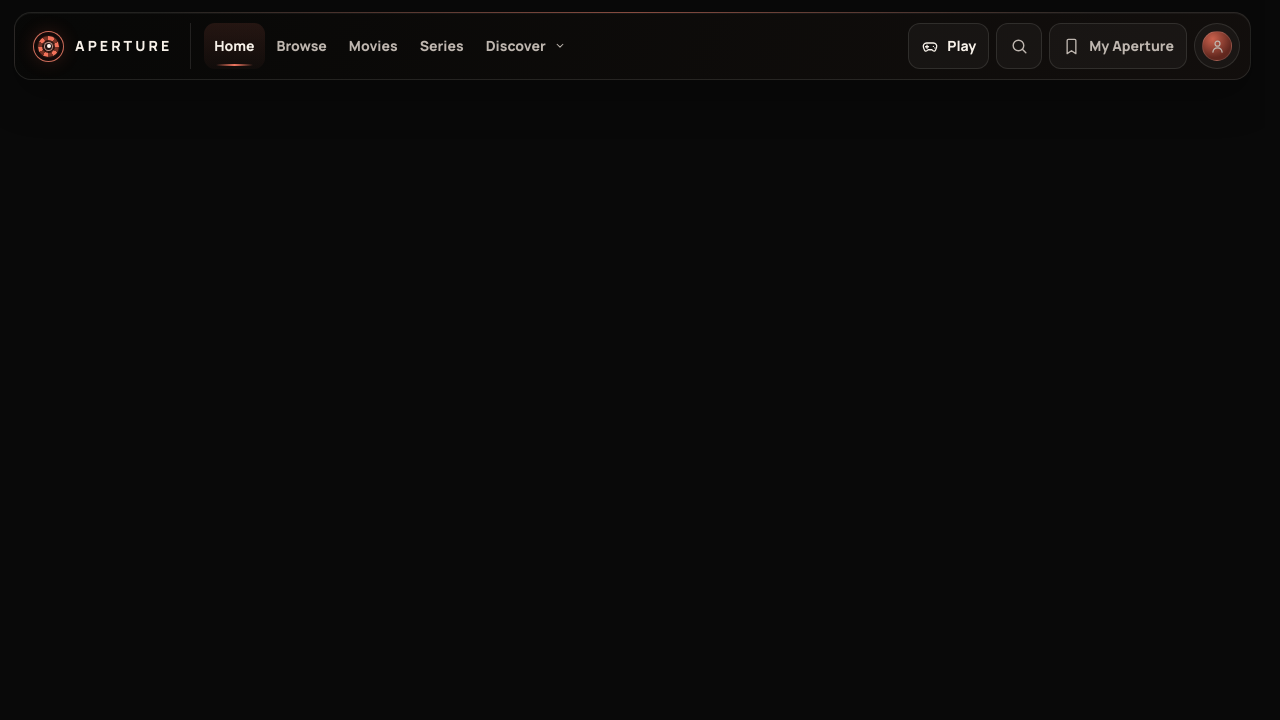
it: HeaderNavigation › exposes each navigation group as a named navigation landmark
Expected: the navigation bar named "Primary navigation" is shown, [204, 23, 577, 69]
Click the button "Discover". click: coordinates (526, 46)
box: [476, 23, 577, 69]
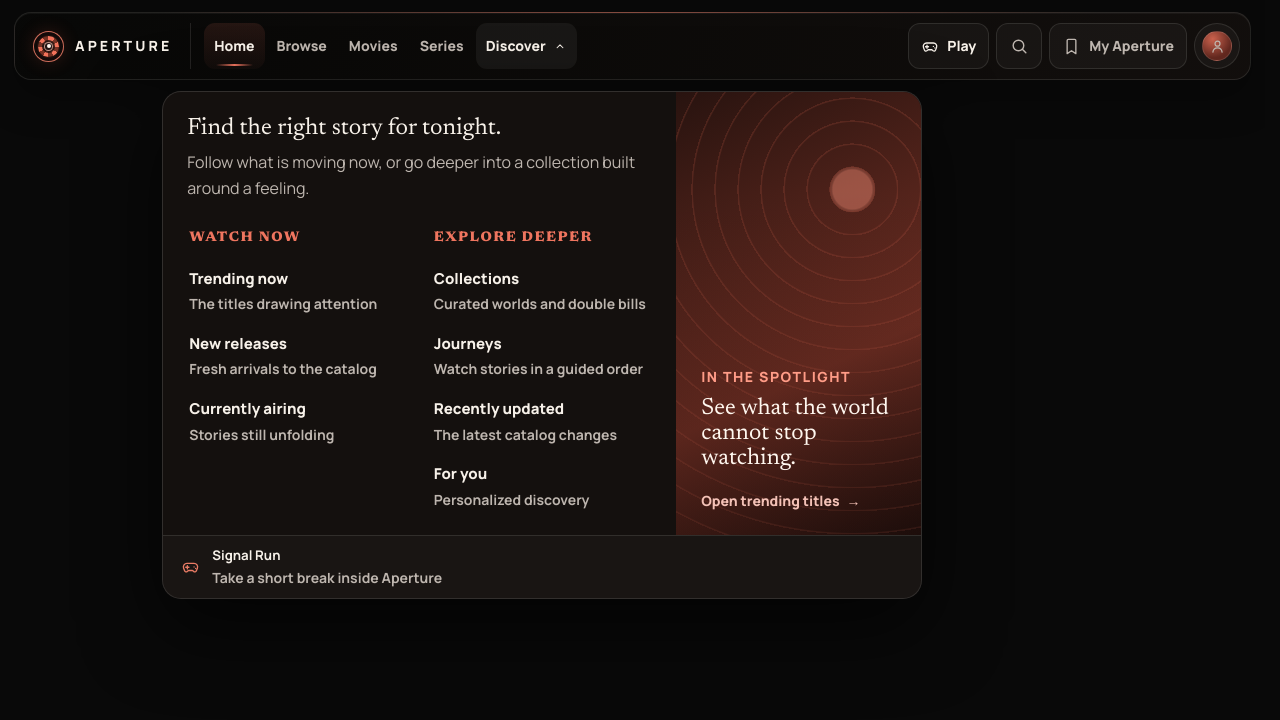
Now the navigation bar "Watch now" is shown, box [189, 231, 377, 444]
Now the navigation bar "Explore deeper" is shown, box [424, 221, 660, 517]
Click the button "My Aperture". click: coordinates (1118, 46)
box: [1049, 23, 1187, 69]
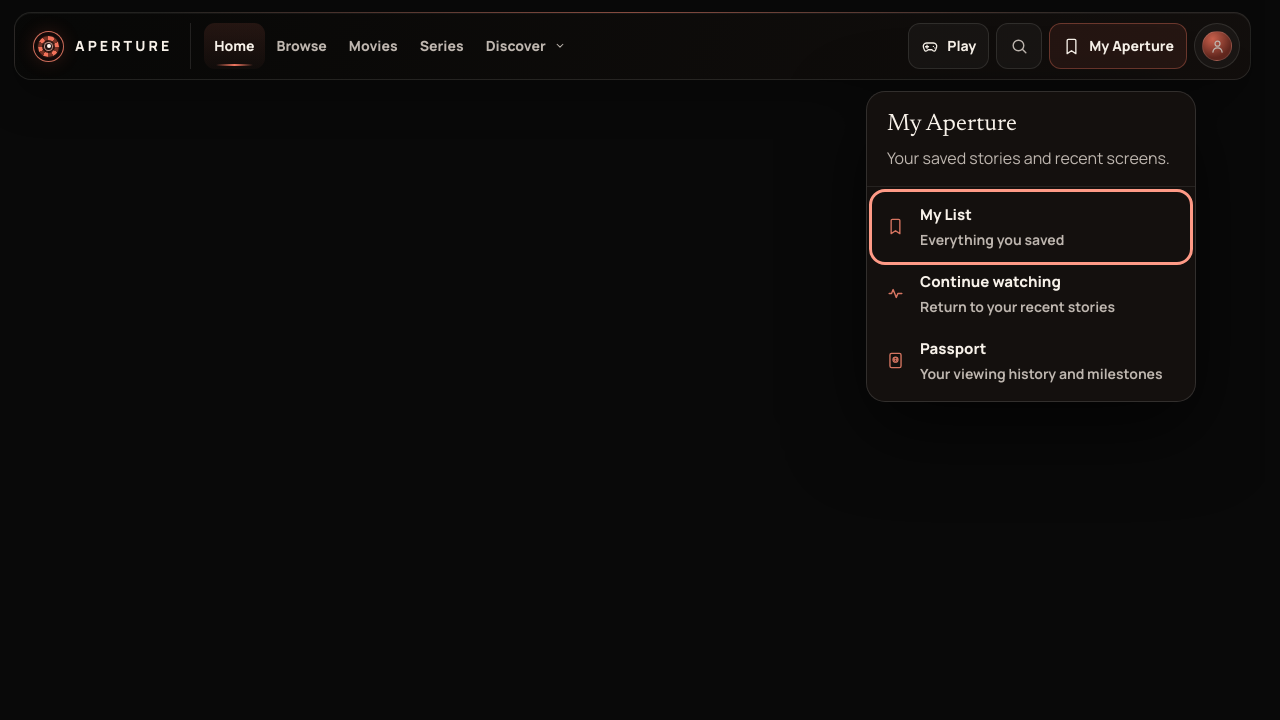
Now the navigation bar named "My Aperture" is shown, box [886, 204, 1162, 383]
Now the heading "Watch now" is gone
